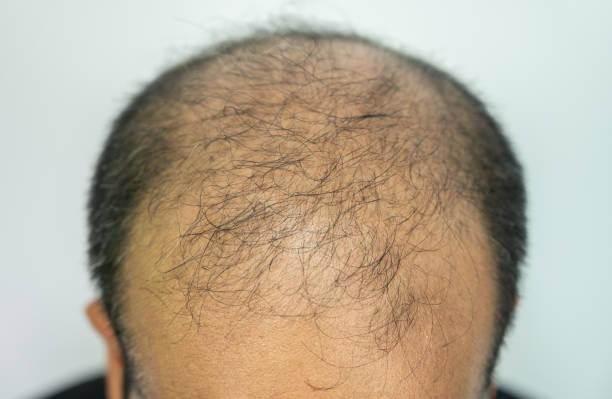low hair density: (230, 77, 384, 215)
